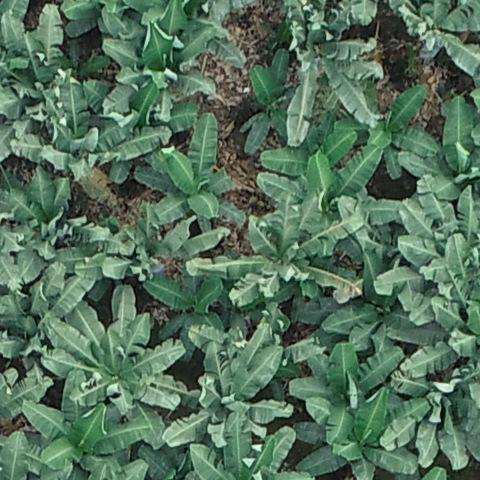Banana-plant: (188, 192, 371, 315), (36, 283, 185, 422), (12, 58, 167, 179), (369, 177, 480, 335), (160, 330, 298, 457), (280, 0, 385, 148), (22, 371, 162, 480), (131, 97, 247, 228), (103, 10, 228, 121), (0, 164, 98, 289), (92, 206, 228, 295), (330, 79, 444, 183), (379, 361, 480, 478), (286, 328, 405, 416), (298, 392, 420, 477), (187, 412, 311, 480), (390, 0, 480, 90), (242, 44, 297, 155)
